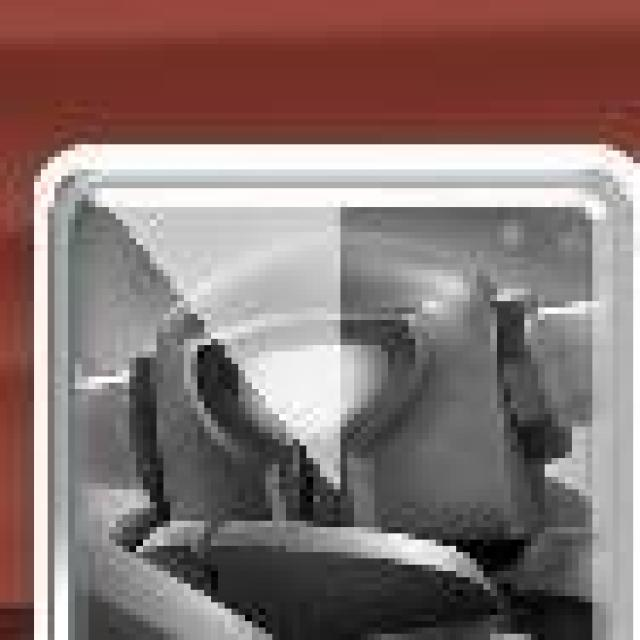Mini_Pekka: (32, 142, 640, 640)
